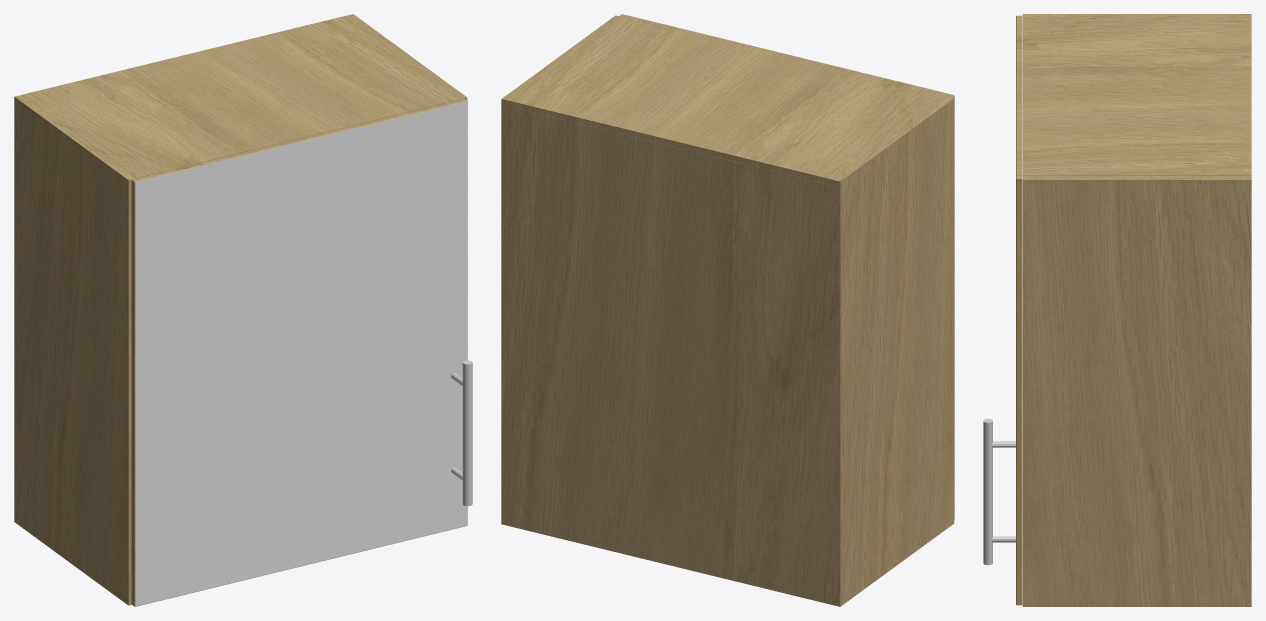
Rendered from b0-uppercabinet.glb.
The picture shows the model from 3 angles, left to right: view 1: azimuth 30°, elevation 25°; view 2: azimuth 150°, elevation 25°; view 3: azimuth 270°, elevation 25°; orthographic projection.
Parts seen in each view (by area): view 1: Cube.006_Cube.007; view 2: Cube.006_Cube.007; view 3: Cube.006_Cube.007.
Boxes of the visible parts, x1,y1,x2,y2 form: Cube.006_Cube.007: (14,14,472,606); Cube.006_Cube.007: (501,14,954,606); Cube.006_Cube.007: (983,14,1251,606).
Size of the model in its own units: 0.6 by 0.72 by 0.41.
3 materials, 1 textured.
